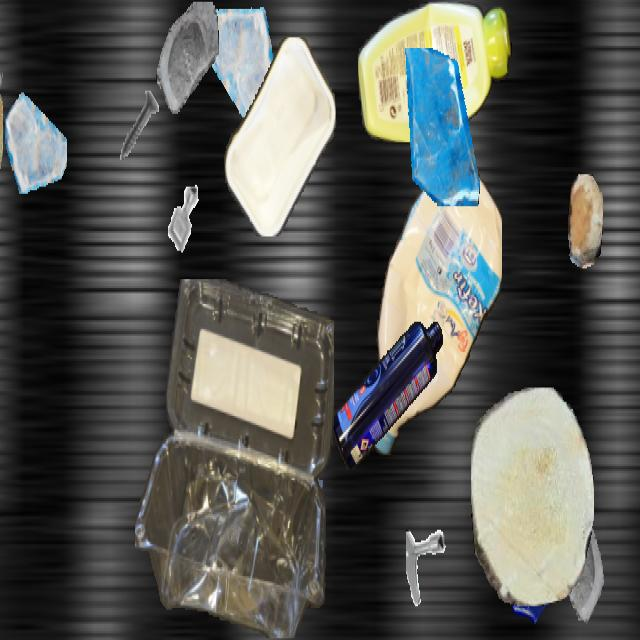glass: (396, 48, 484, 204), (247, 426, 323, 562), (541, 502, 617, 636), (203, 2, 275, 130), (501, 512, 563, 622), (5, 84, 67, 194), (156, 2, 218, 112), (0, 1, 11, 116)
metal: (406, 526, 466, 633), (113, 80, 167, 176), (158, 172, 210, 265), (0, 548, 10, 626)
plastic: (135, 279, 333, 638), (372, 153, 502, 462), (223, 38, 337, 236), (358, 2, 512, 140), (332, 322, 442, 468)
wood: (471, 388, 593, 604), (568, 174, 602, 267), (0, 39, 2, 224)
